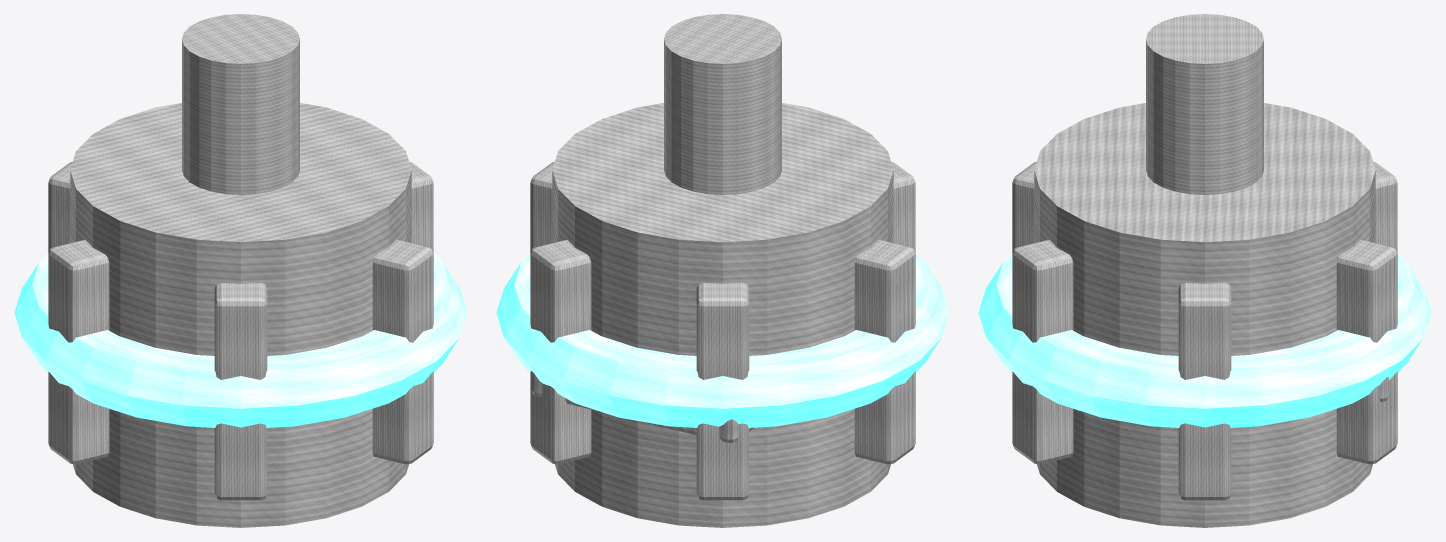
Rendered from item-heat-sink_variant_d.glb.
3 views of the same model, side by side, from view 1: azimuth 30°, elevation 25°; view 2: azimuth 150°, elevation 25°; view 3: azimuth 270°, elevation 25° (orthographic).
Visible parts, largest first — view 1: Mechanical core.003, Rotor ring, Shaft.003, Cooling fin.022, Cooling fin, Cooling fin.023, Cooling fin.019, Cooling fin.021; view 2: Mechanical core.003, Rotor ring, Shaft.003, Cooling fin.022, Cooling fin.020, Cooling fin.021, Cooling fin.019, Cooling fin.023, Variant modular rail; view 3: Mechanical core.003, Rotor ring, Shaft.003, Cooling fin, Cooling fin.020, Cooling fin.019, Cooling fin.021, Cooling fin.023.
Part boxes in pixels (x1,y1,x2,y2): Mechanical core.003: (70, 103, 411, 527); Rotor ring: (14, 253, 467, 427); Shaft.003: (182, 14, 299, 194); Cooling fin.022: (48, 240, 109, 464); Cooling fin: (372, 240, 433, 464); Cooling fin.023: (214, 282, 267, 500); Cooling fin.019: (409, 162, 433, 251); Cooling fin.021: (48, 162, 72, 251); Mechanical core.003: (552, 103, 893, 527); Rotor ring: (496, 253, 949, 427); Shaft.003: (664, 14, 781, 194); Cooling fin.022: (854, 240, 915, 464); Cooling fin.020: (530, 240, 591, 464); Cooling fin.021: (696, 282, 749, 500); Cooling fin.019: (530, 162, 554, 251); Cooling fin.023: (891, 162, 915, 251); Variant modular rail: (531, 370, 754, 442); Mechanical core.003: (1034, 103, 1375, 527); Rotor ring: (978, 253, 1431, 427); Shaft.003: (1146, 14, 1263, 194); Cooling fin: (1012, 240, 1073, 464); Cooling fin.020: (1336, 240, 1397, 464); Cooling fin.019: (1178, 282, 1231, 500); Cooling fin.021: (1373, 162, 1397, 251); Cooling fin.023: (1012, 162, 1036, 251).
Size of what is drawn, in the model's own units: 0.69 by 0.7 by 0.69.
5 materials, 5 textured.
